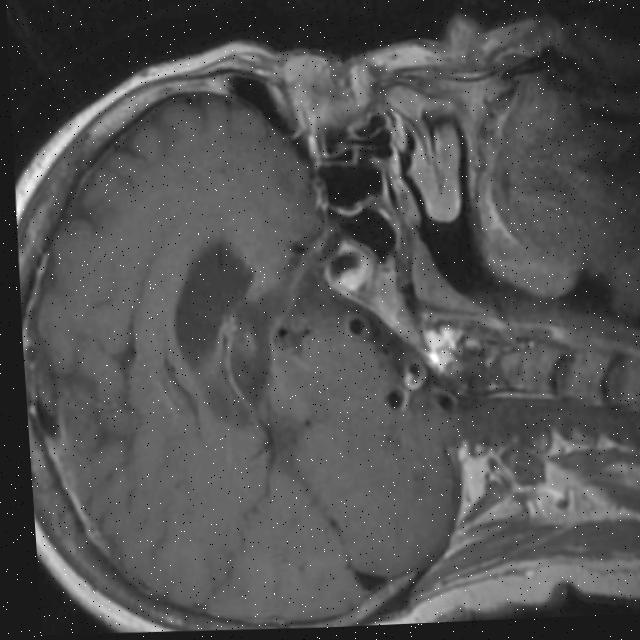Pituitary: (320, 236, 379, 294)
